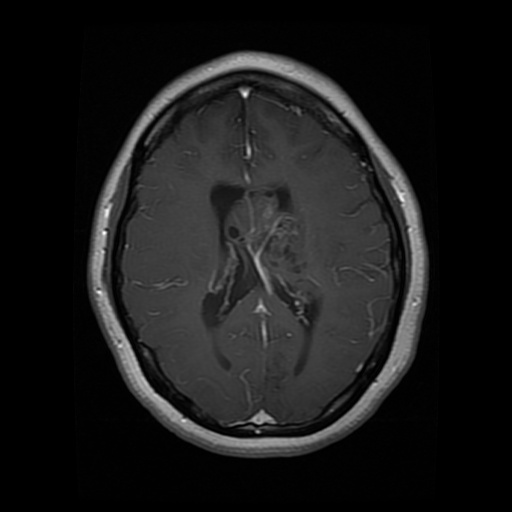glioma: (221, 188, 318, 301)
